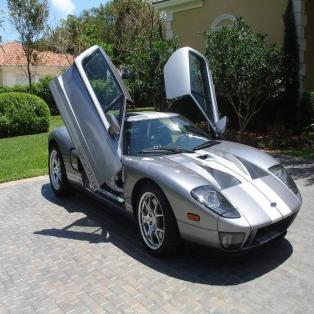Auto: (47, 40, 302, 257)
